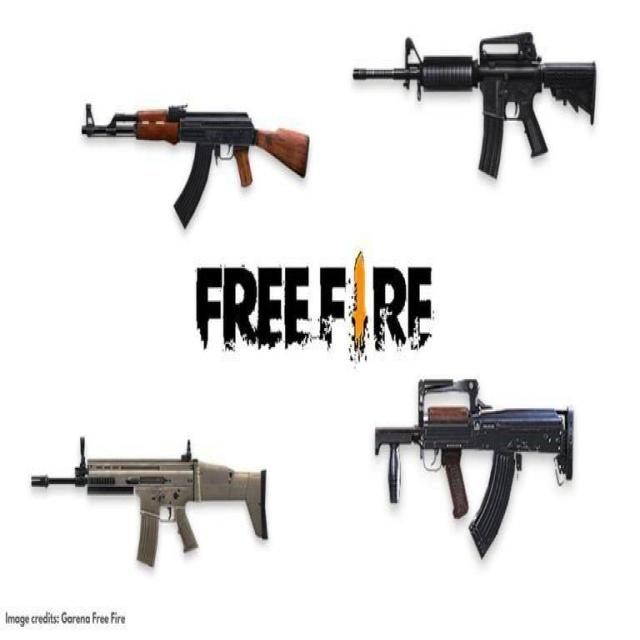weapon: (348, 26, 612, 184), (370, 375, 577, 564), (78, 94, 322, 234), (26, 433, 272, 571)
